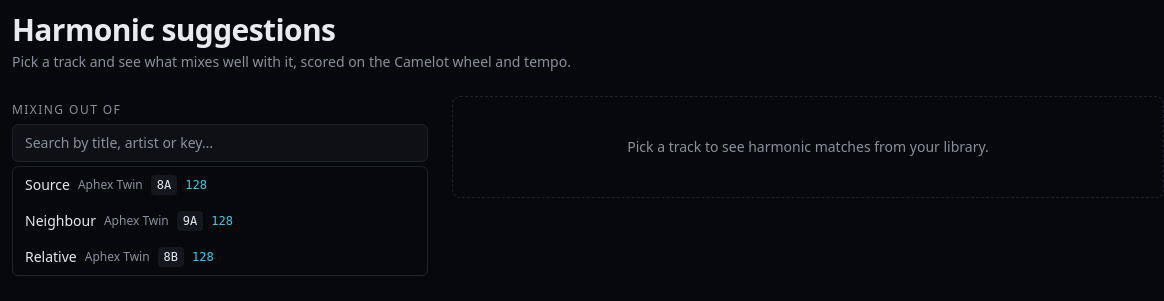
Suggestions › shows a loading state while scoring
The image size is (1164, 301).
Click the button "Source Aphex Twin 8A 128".
click(47, 184)  # box left=13, top=167, right=427, bottom=203
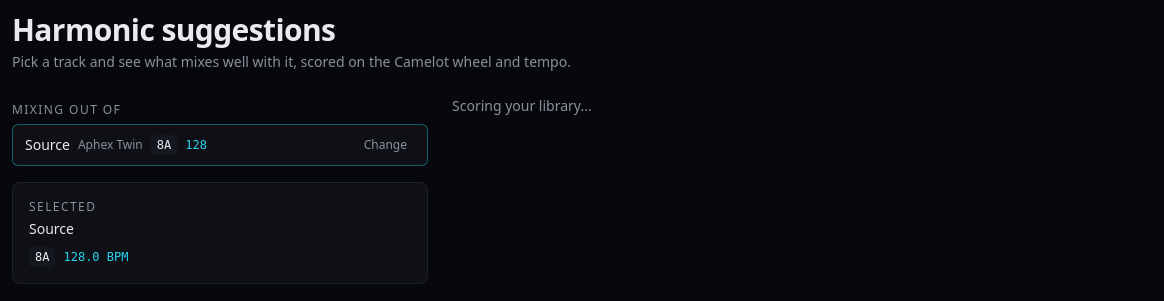
Now the text "Scoring your library…" is shown, box left=452, top=96, right=592, bottom=115
